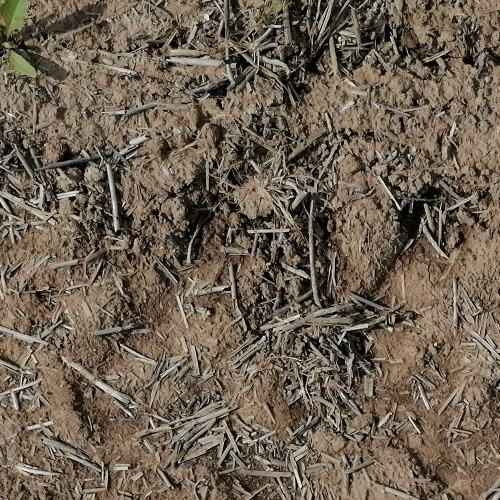beet: (0, 0, 38, 82)
